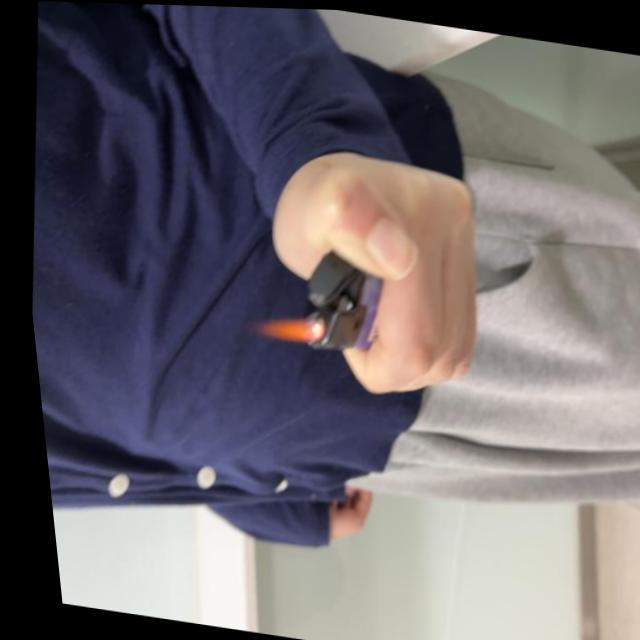Fire: (239, 305, 319, 344)
